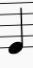E: (7, 0, 26, 57)
